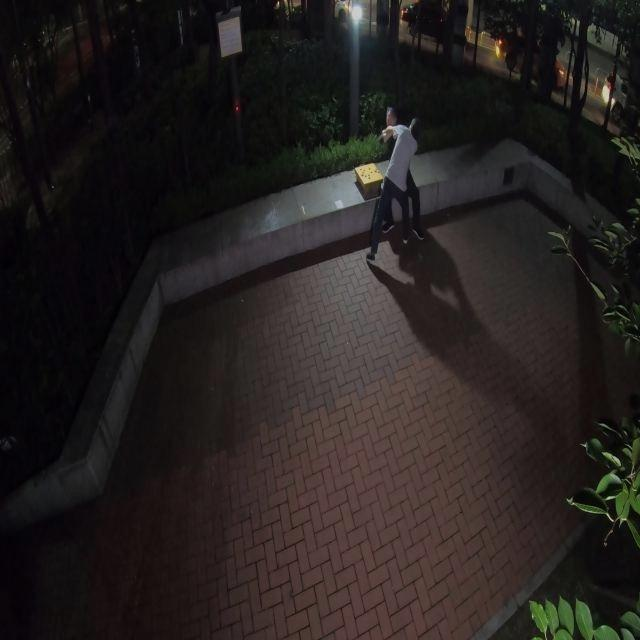fight: (366, 105, 431, 268)
